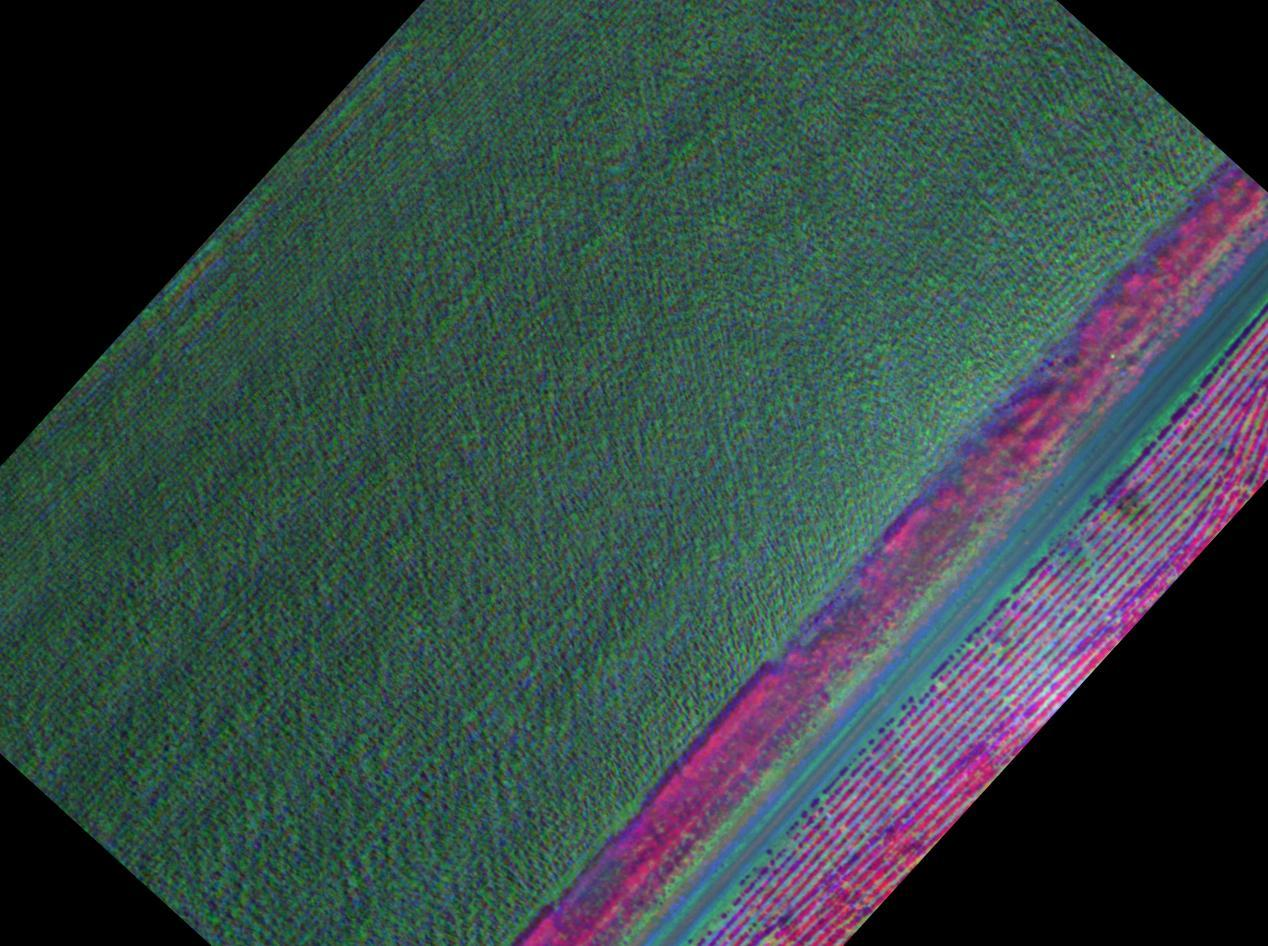dc: (1082, 457, 1177, 541), (722, 885, 804, 946)
